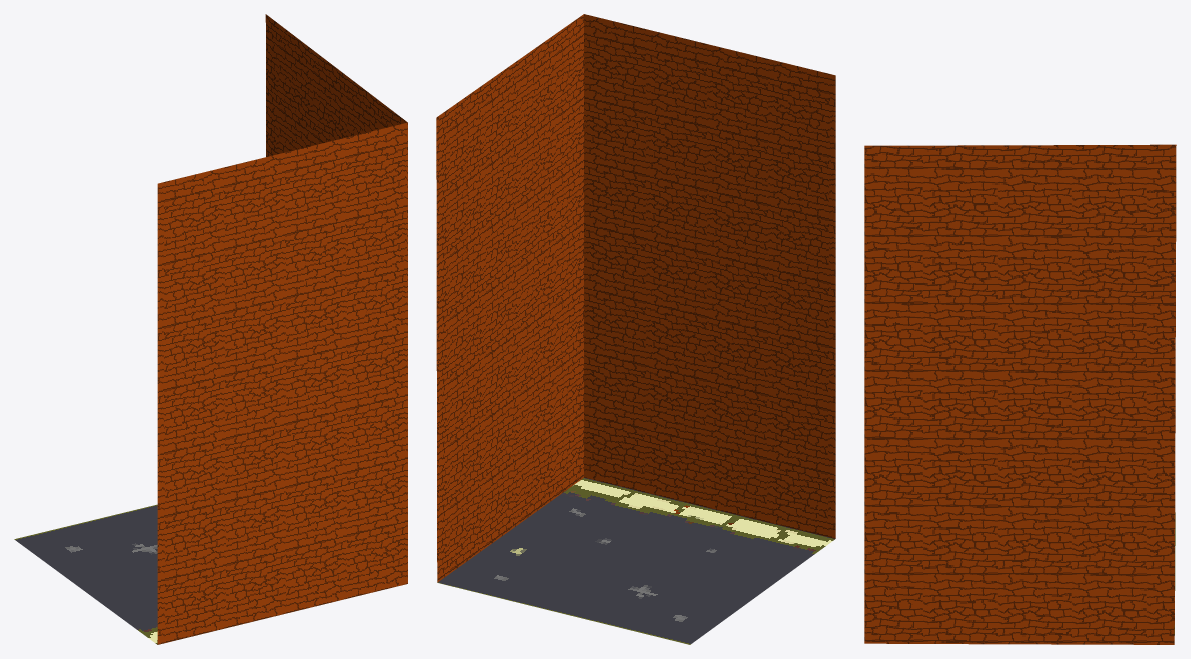
Rendered from TrueCorner.glb.
The picture shows the model from 3 angles, left to right: view 1: azimuth 30°, elevation 25°; view 2: azimuth 150°, elevation 25°; view 3: azimuth 270°, elevation 25°; orthographic projection. The views are drawn at different scales.
Visible parts, largest first — view 1: floorwallcorner-col; view 2: floorwallcorner-col; view 3: floorwallcorner-col.
Part boxes in pixels (x1,y1,x2,y2): floorwallcorner-col: (14, 14, 407, 644); floorwallcorner-col: (436, 14, 835, 644); floorwallcorner-col: (864, 144, 1176, 644).
Bounding box in the file's own units: 3.99 × 7 × 3.96.
2 materials, 2 textured.
